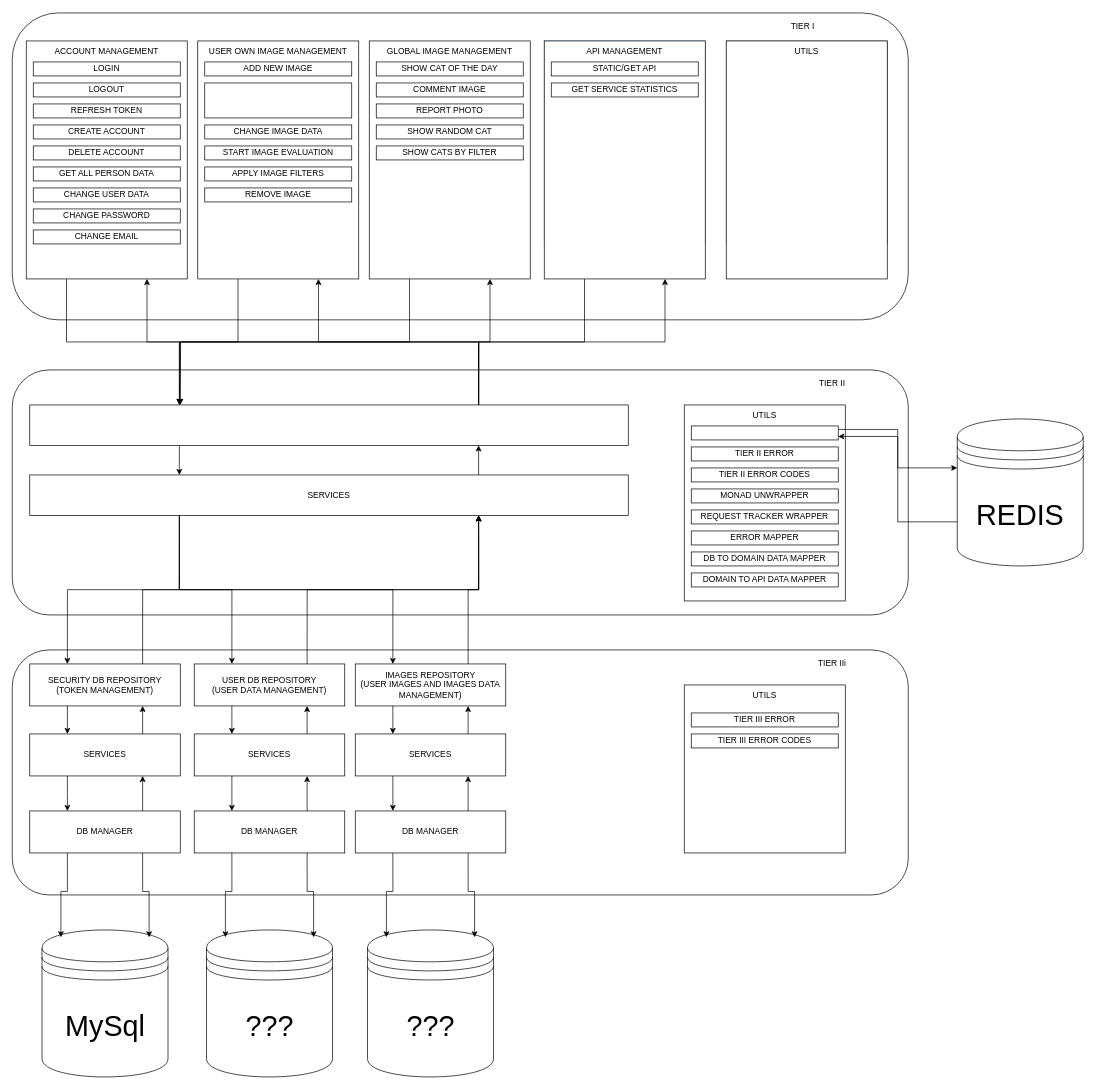
Image size: 1096x1089. Some labels were removed from this diagram. The centre of each missing label's shape, as x and y in pixels:
GLOBAL HANDLERS: pixel 328 424
MEMORY/REDIS DB MANAGER: pixel 764 432
SET VISBILITY RULES (PUBLIC/PRIVATE): pixel 278 100
